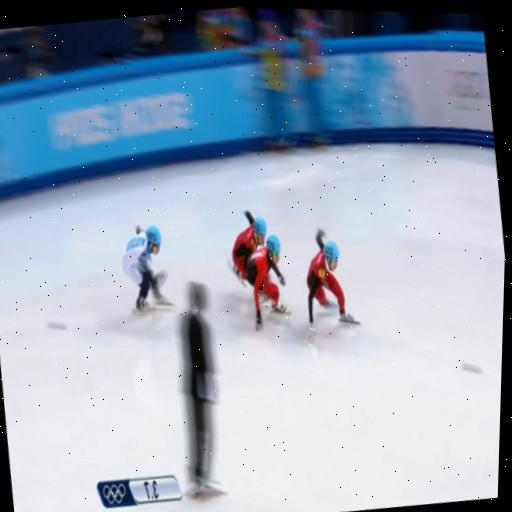Skater: (306, 230, 356, 344), (121, 226, 169, 310), (246, 234, 285, 330), (231, 210, 266, 283)
